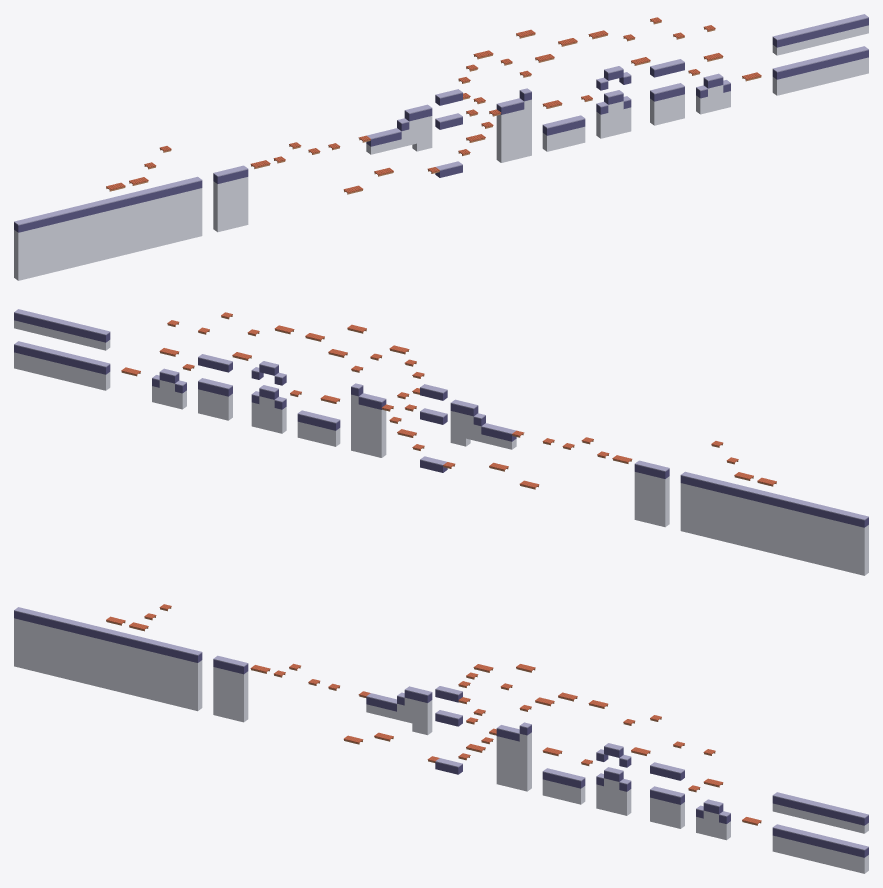
File: platforms.glb
3 views of the same model, one above another, from view 1: azimuth 30°, elevation 25°; view 2: azimuth 150°, elevation 25°; view 3: azimuth 330°, elevation 25° (orthographic).
Bounding box in the file's own units: 111 × 15.2 × 1.
